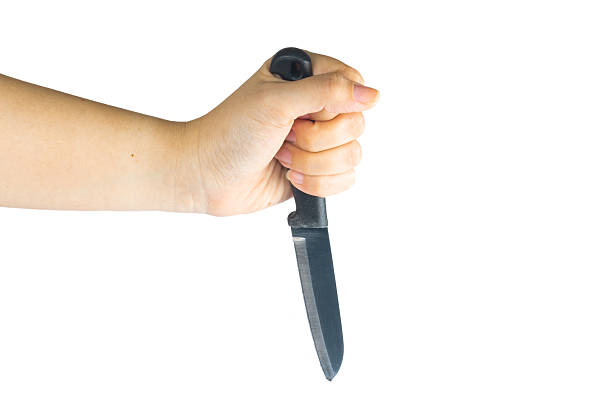knife: (267, 44, 346, 382)
